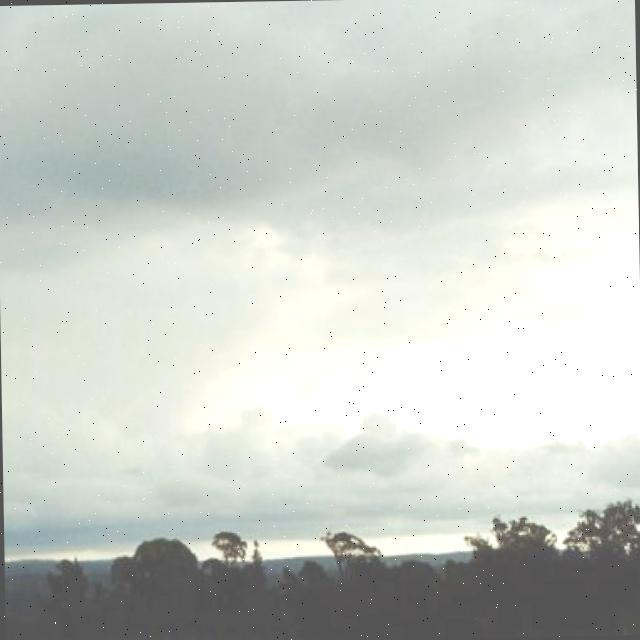Sc: (1, 30, 640, 502)
